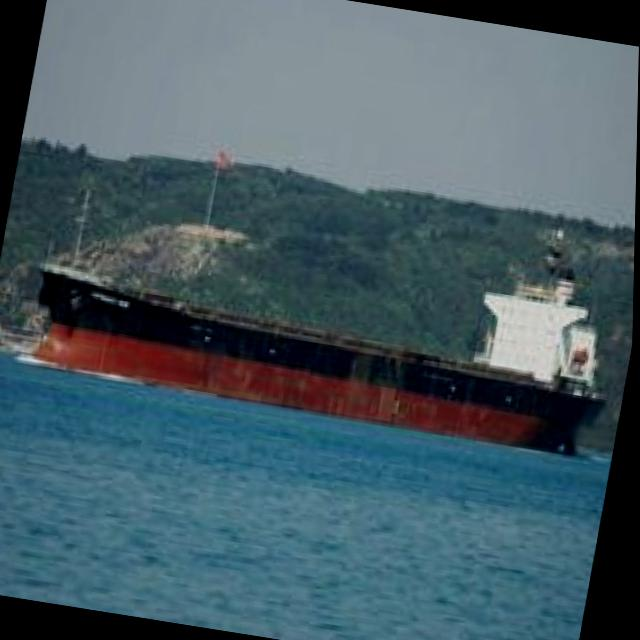ship2: (33, 178, 604, 459)
